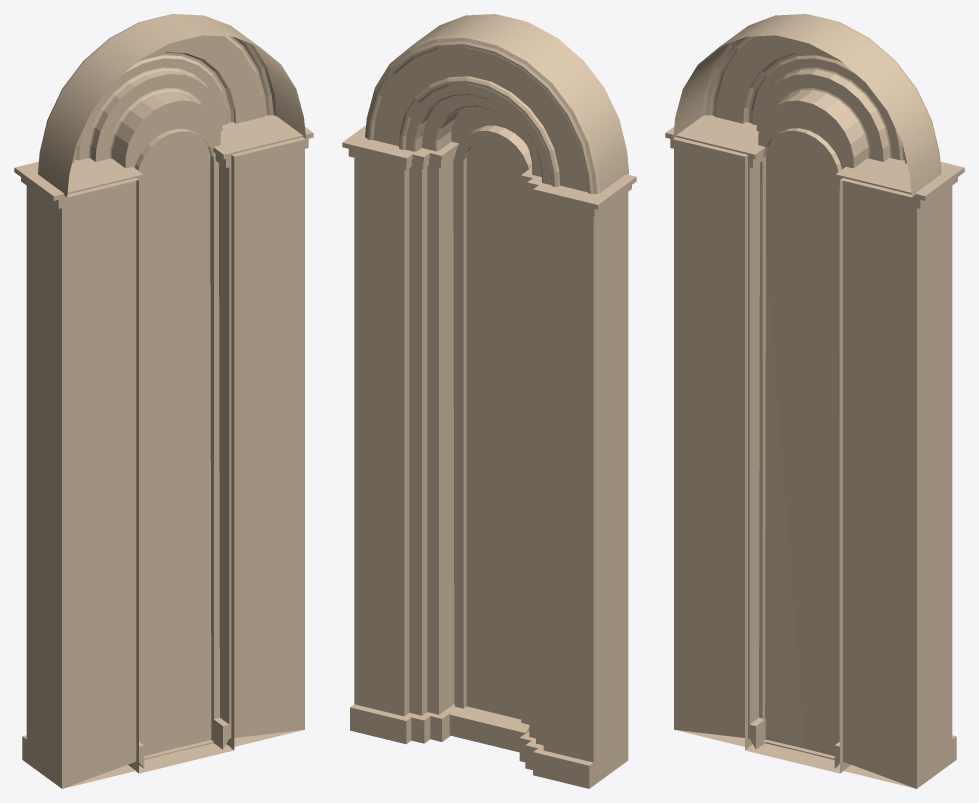
File: BC_ArcWindow_A.fbx
3 views of the same model, side by side, from view 1: azimuth 30°, elevation 25°; view 2: azimuth 150°, elevation 25°; view 3: azimuth 330°, elevation 25° (orthographic).
Visible parts, largest first — view 1: BC_ArcWindow_A; view 2: BC_ArcWindow_A; view 3: BC_ArcWindow_A.
Part boxes in pixels (x1,y1,x2,y2): BC_ArcWindow_A: (14, 14, 313, 788); BC_ArcWindow_A: (342, 14, 636, 788); BC_ArcWindow_A: (665, 14, 964, 788).
Bounding box in the file's own units: 242 × 643 × 68.78.
